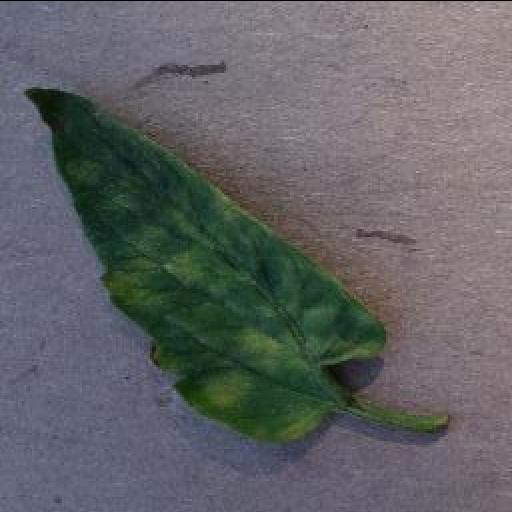disease_tomato: (24, 86, 382, 440)
